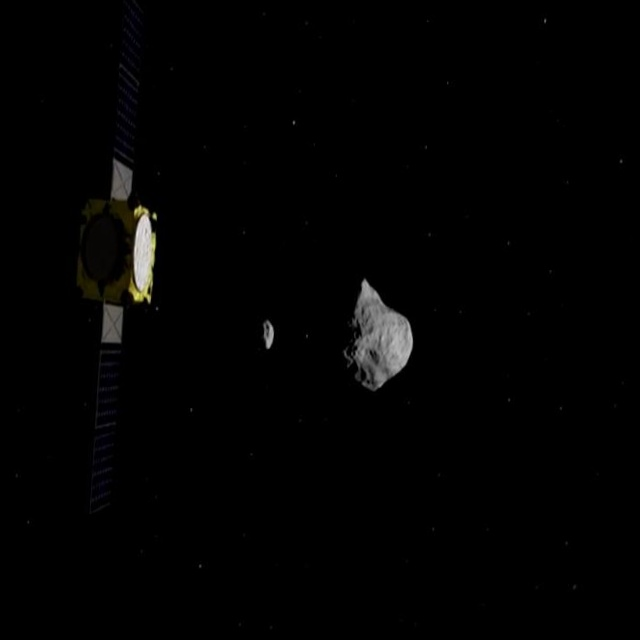large_debris: (332, 231, 430, 436), (258, 304, 283, 369)
satellite: (28, 0, 207, 631)
